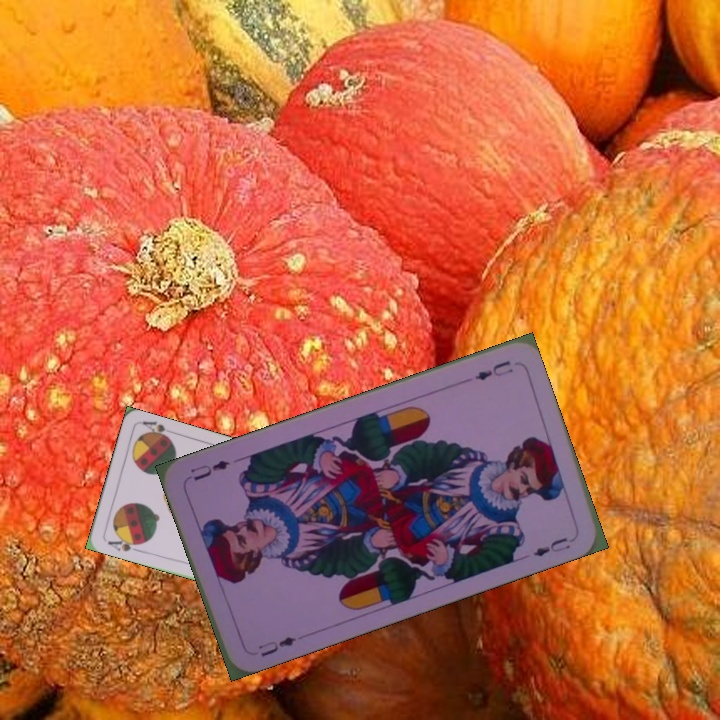EU: (470, 356, 516, 383), (254, 632, 298, 660)
SA: (104, 532, 144, 554)
